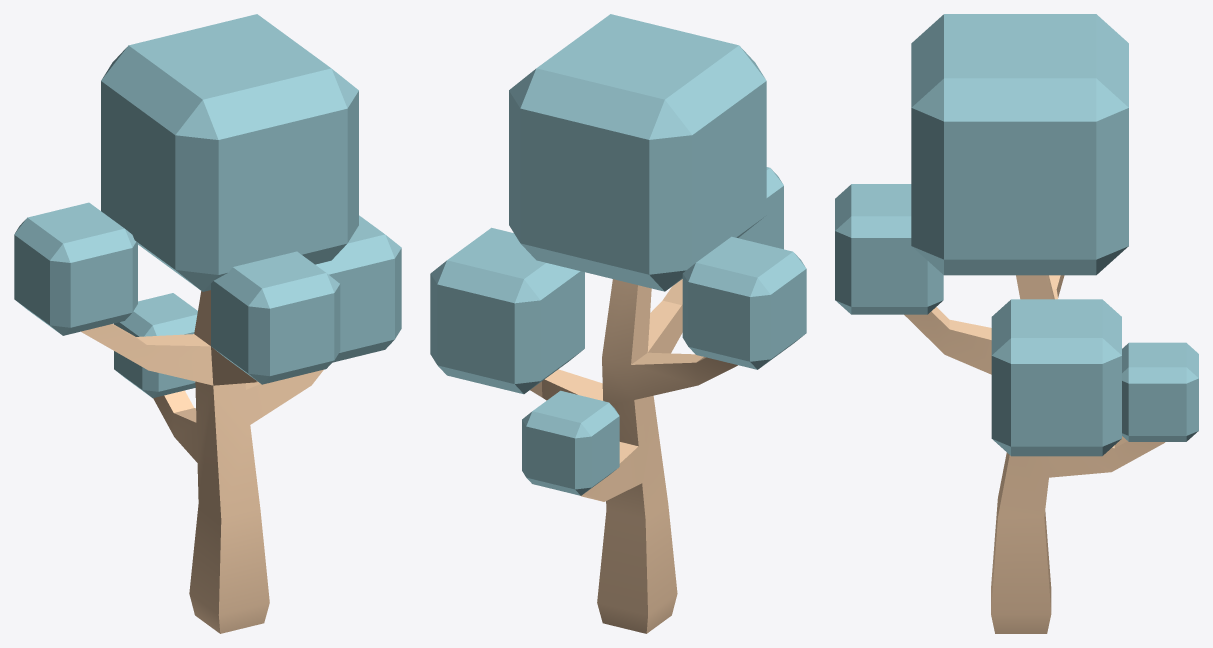
File: tree_detailed_dark.glb
The picture shows the model from 3 angles, left to right: view 1: azimuth 30°, elevation 25°; view 2: azimuth 150°, elevation 25°; view 3: azimuth 270°, elevation 25°; orthographic projection. The views are drawn at different scales.
Parts seen in each view (by area): view 1: tree_detailed_dark; view 2: tree_detailed_dark; view 3: tree_detailed_dark.
Part boxes in pixels (bbox=[...]): tree_detailed_dark: bbox=[14, 14, 401, 633]; tree_detailed_dark: bbox=[430, 14, 806, 633]; tree_detailed_dark: bbox=[835, 14, 1198, 633].
Size of the model in its own units: 0.8471 by 1.33 by 0.7616.
